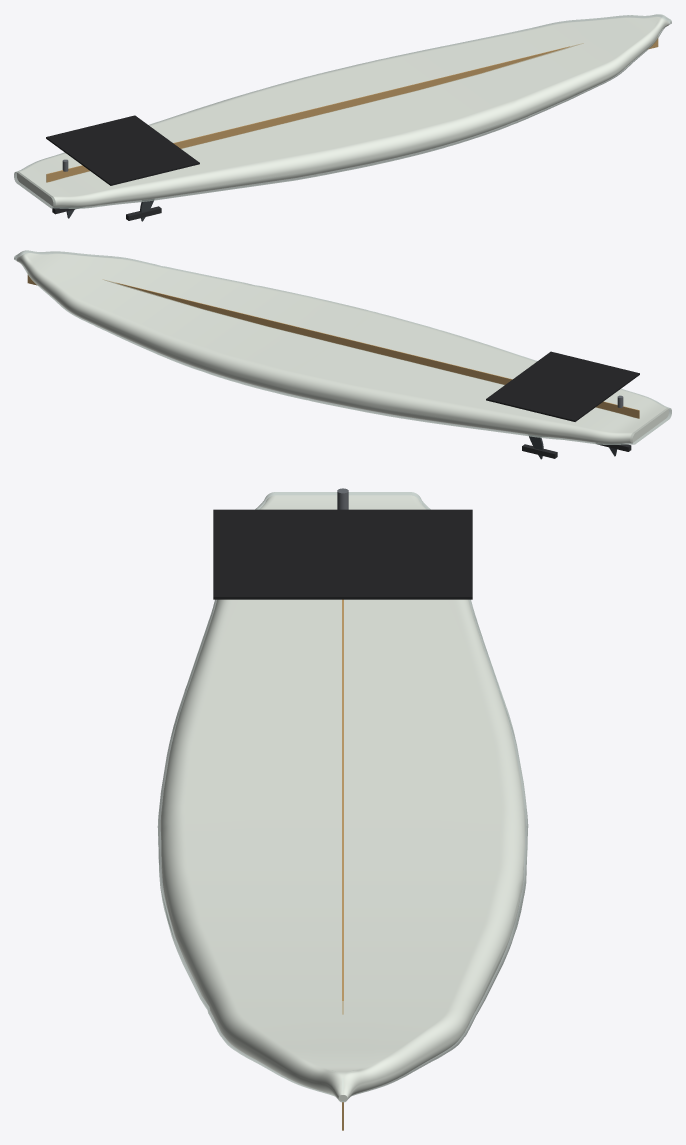
Rendered from anatomy_v1.glb.
3 views of the same model, one above another, from view 1: azimuth 30°, elevation 25°; view 2: azimuth 150°, elevation 25°; view 3: azimuth 270°, elevation 25° (orthographic). The views are drawn at different scales.
Parts seen in each view (by area): view 1: laminate.1 (×2), foam.1, pad.1, wood.1; view 2: laminate.1 (×2), foam.1, pad.1, wood.1; view 3: laminate.1 (×2), foam.1, pad.1.
Part boxes in pixels (bbox=[...]): laminate.1 (×2): bbox=[14, 14, 671, 208]; foam.1: bbox=[17, 16, 669, 207]; pad.1: bbox=[46, 115, 199, 185]; wood.1: bbox=[46, 37, 658, 182]; laminate.1 (×2): bbox=[14, 250, 671, 444]; foam.1: bbox=[16, 253, 668, 443]; pad.1: bbox=[486, 351, 639, 421]; wood.1: bbox=[27, 273, 639, 418]; laminate.1 (×2): bbox=[157, 492, 528, 1102]; foam.1: bbox=[160, 495, 525, 1101]; pad.1: bbox=[213, 509, 472, 599].
Size of the model in its own units: 2.29 by 0.2043 by 0.5754.
